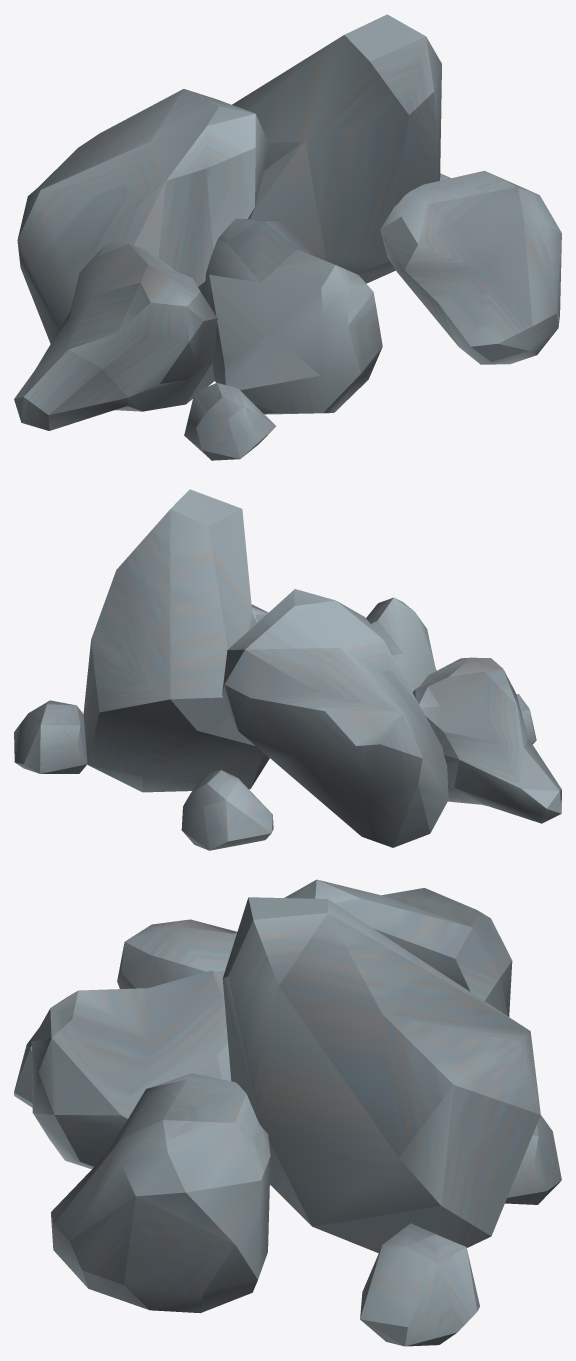
The model's file is stone-chunks-small.glb.
3 renders of one model, top to bottom at view 1: azimuth 30°, elevation 25°; view 2: azimuth 150°, elevation 25°; view 3: azimuth 270°, elevation 25°, orthographic. The views are drawn at different scales.
Visible parts, largest first — view 1: Stone_Chunks_Small; view 2: Stone_Chunks_Small; view 3: Stone_Chunks_Small.
Boxes of the visible parts, <box> form: Stone_Chunks_Small: <box>14,14,561,460</box>; Stone_Chunks_Small: <box>14,489,561,850</box>; Stone_Chunks_Small: <box>14,879,561,1346</box>.
Size of the model in its own units: 1.12 by 0.5792 by 0.7861.
Materials: 1 (1 with a texture image).
